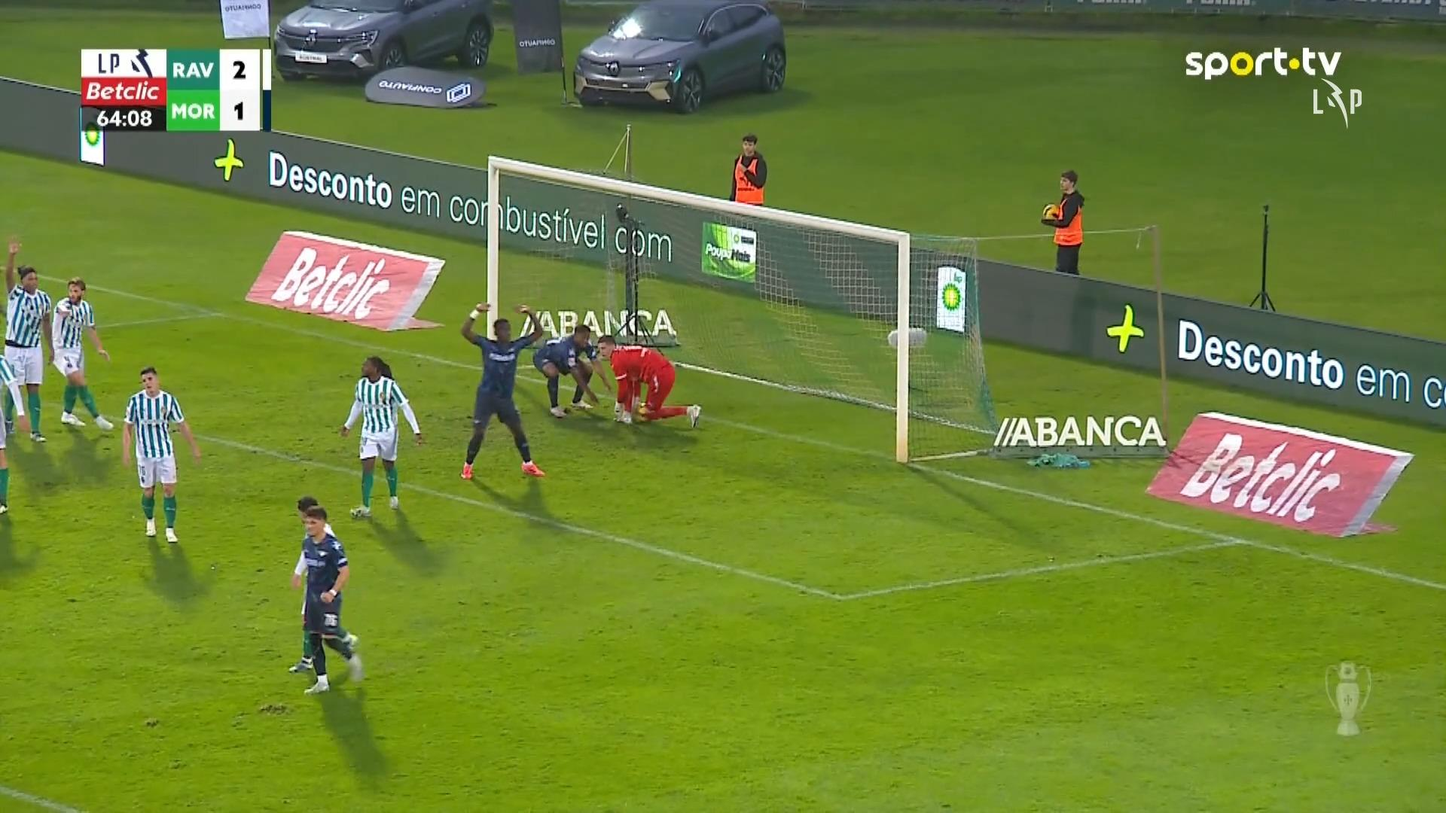goalkeeper: (593, 333, 702, 429)
player: (458, 300, 546, 480), (120, 365, 201, 543), (338, 355, 423, 519), (287, 498, 358, 672), (302, 508, 364, 694), (1, 237, 55, 443), (50, 276, 114, 431), (531, 323, 610, 419)
